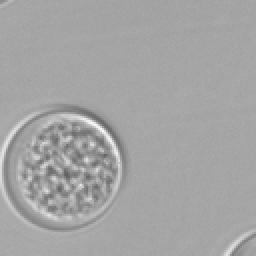picoshell: (2, 106, 124, 230), (222, 228, 254, 254)
